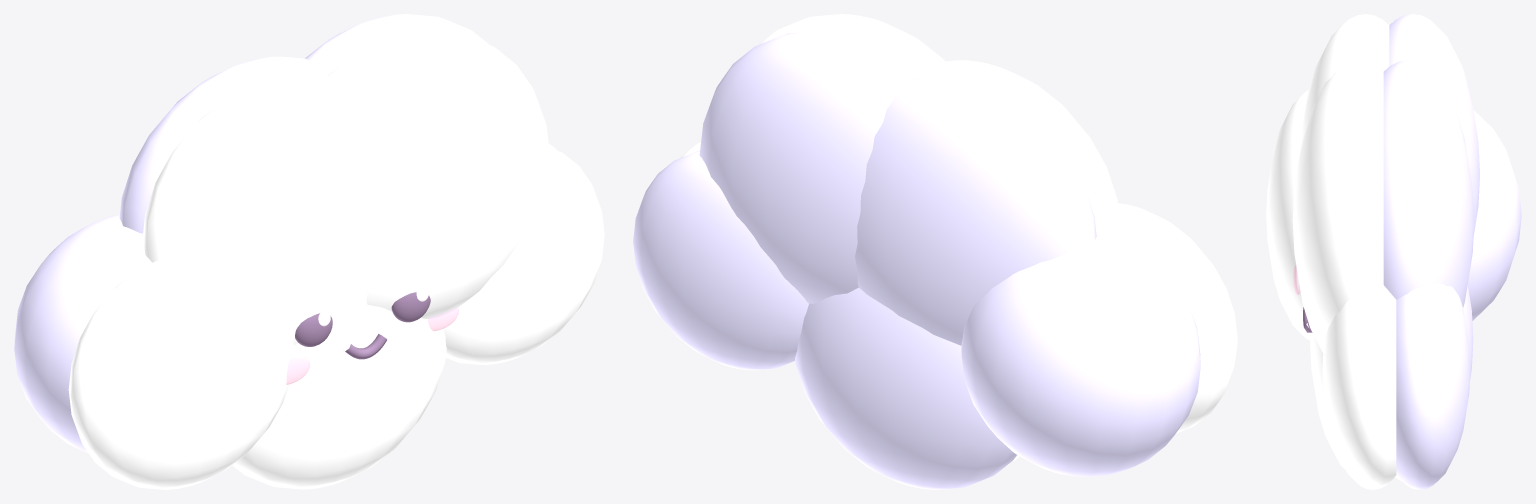
The model's file is life_puff.glb.
3 views of the same model, side by side, from view 1: azimuth 30°, elevation 25°; view 2: azimuth 150°, elevation 25°; view 3: azimuth 270°, elevation 25° (orthographic). The views are drawn at different scales.
Parts seen in each view (by area): view 1: wrap_puff_1, object 1, object 3; view 2: wrap_puff_1; view 3: wrap_puff_1.
Boxes of the visible parts, x1,y1,x2,y2 form: wrap_puff_1: (14,14,604,489); object 1: (295,313,332,346); object 3: (391,292,430,322); wrap_puff_1: (633,14,1237,489); wrap_puff_1: (1266,14,1521,489).
Bounding box in the file's own units: 4.54 × 3.36 × 1.79.
